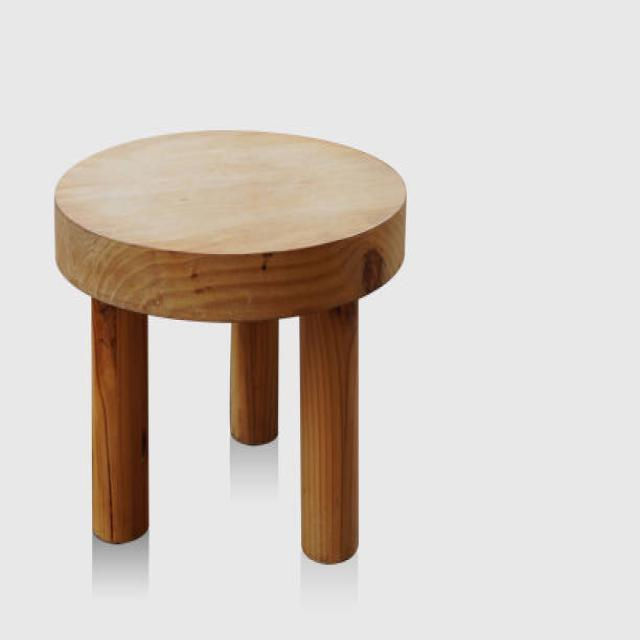table: (53, 127, 407, 565)
